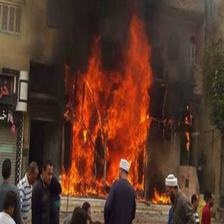fire: (66, 10, 157, 159), (60, 160, 118, 199), (132, 154, 168, 207), (180, 101, 194, 157)
